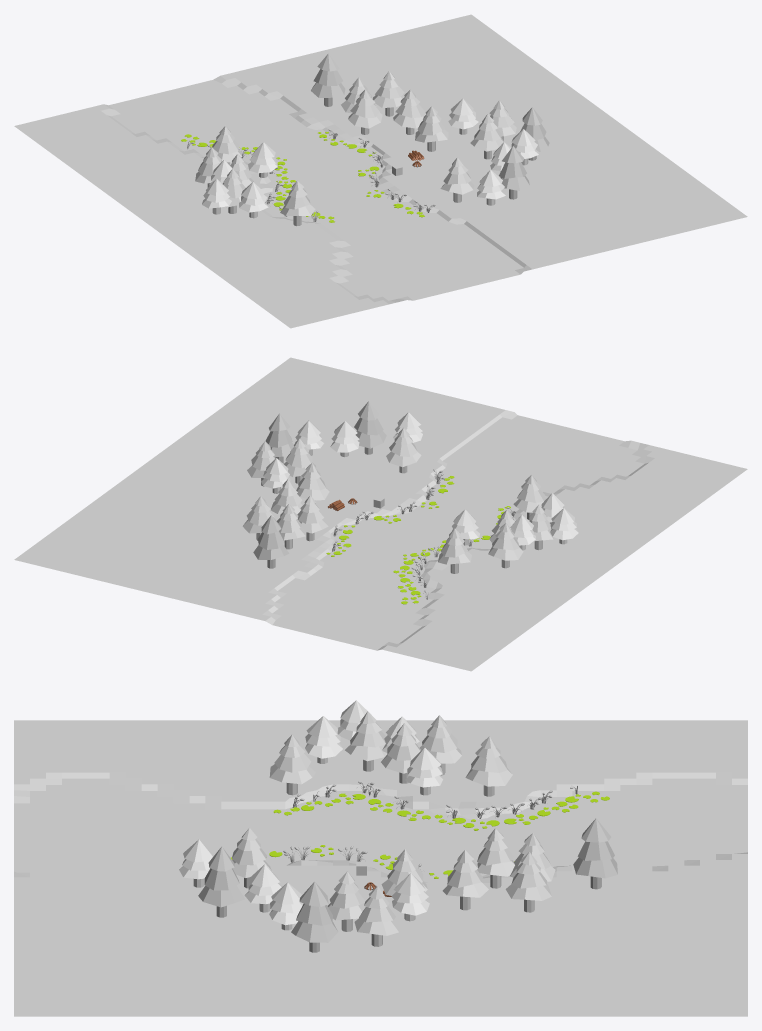
Rendered from Map (3).fbx.
3 views of the same model, one above another, from view 1: azimuth 30°, elevation 25°; view 2: azimuth 150°, elevation 25°; view 3: azimuth 270°, elevation 25° (orthographic). The views are drawn at different scales.
Parts seen in each view (by area): view 1: Plane, Plane.048, Plane.006, Plane.072, Plane.040, Plane.065, Plane.030, Plane.039, Plane.041, Plane.055, Plane.043, Plane.024 (+9 smaller); view 2: Plane, Plane.048, Plane.006, Plane.039, Plane.020, Plane.045, Plane.043, Plane.040, Plane.072, Plane.030, Plane.038, Plane.041 (+10 smaller); view 3: Plane, Plane.043, Plane.048, Plane.006, Plane.045, Plane.030, Plane.047, Plane.055, Plane.065, Plane.072, Plane.025, Plane.041 (+12 smaller).
Part boxes in pixels (x1,y1,x2,y2): Plane: [14, 14, 747, 328]; Plane.048: [311, 53, 345, 106]; Plane.006: [499, 146, 529, 199]; Plane.072: [348, 89, 382, 134]; Plane.040: [415, 106, 448, 151]; Plane.065: [393, 89, 425, 134]; Plane.030: [280, 180, 315, 226]; Plane.039: [440, 157, 474, 202]; Plane.041: [470, 114, 503, 159]; Plane.055: [372, 71, 404, 116]; Plane.043: [520, 107, 549, 160]; Plane.024: [248, 142, 277, 177]; Plane: [14, 357, 747, 671]; Plane.048: [253, 515, 289, 568]; Plane.006: [354, 401, 386, 454]; Plane.039: [386, 428, 421, 473]; Plane.020: [488, 523, 523, 568]; Plane.045: [438, 528, 471, 573]; Plane.043: [265, 413, 294, 463]; Plane.040: [296, 463, 329, 503]; Plane.072: [297, 495, 328, 541]; Plane.030: [513, 475, 546, 520]; Plane.038: [277, 504, 305, 549]; Plane.041: [284, 438, 316, 483]; Plane: [14, 720, 747, 1016]; Plane.043: [291, 881, 338, 952]; Plane.048: [573, 818, 617, 889]; Plane.006: [198, 846, 245, 917]; Plane.045: [465, 736, 512, 796]; Plane.030: [269, 734, 315, 795]; Plane.047: [354, 886, 398, 946]; Plane.055: [505, 852, 551, 912]; Plane.065: [442, 850, 488, 910]; Plane.072: [477, 828, 514, 888]; Plane.025: [345, 711, 387, 771]; Plane.041: [328, 871, 365, 931].
Size of the model in its own units: 13263 by 1511 by 13888.
